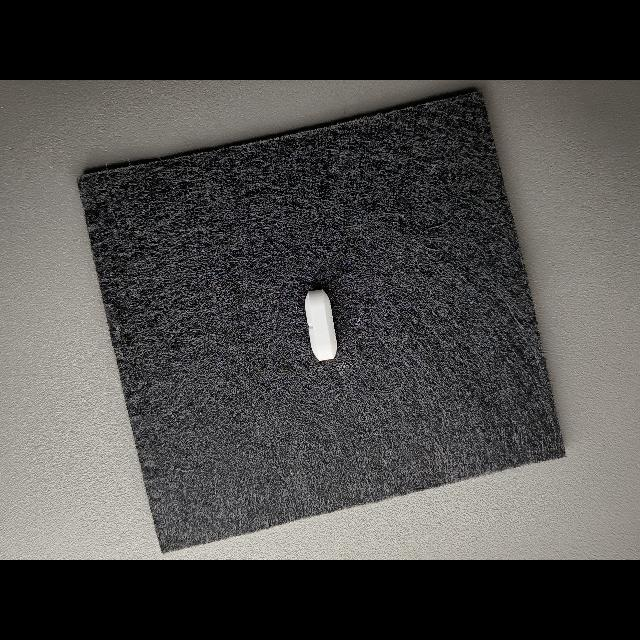Intact Pill: (305, 289, 337, 361)
